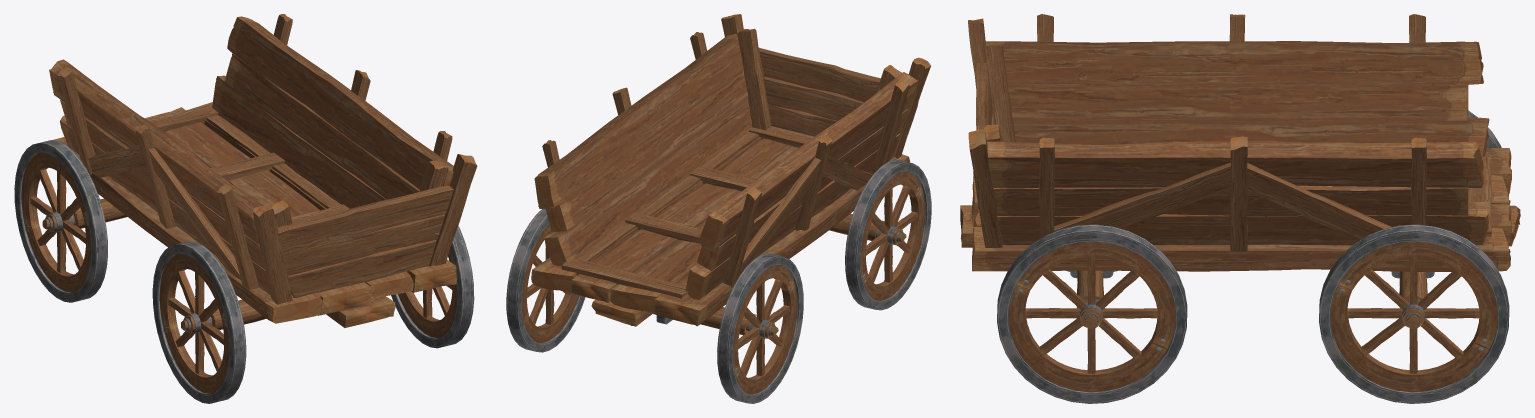
Rendered from SM_Farm_Carriage_01.fbx.
3 views of the same model, side by side, from view 1: azimuth 30°, elevation 25°; view 2: azimuth 150°, elevation 25°; view 3: azimuth 270°, elevation 25° (orthographic). The views are drawn at different scales.
Visible parts, largest first — view 1: SM_Farm_Carriage_01_LOD0; view 2: SM_Farm_Carriage_01_LOD0; view 3: SM_Farm_Carriage_01_LOD0.
Part boxes in pixels (x1=…): SM_Farm_Carriage_01_LOD0: x1=14, y1=14, x2=477, y2=403; SM_Farm_Carriage_01_LOD0: x1=506, y1=14, x2=931, y2=403; SM_Farm_Carriage_01_LOD0: x1=960, y1=14, x2=1520, y2=403.
Size of what is drawn, in the model's own units: 238 by 196 by 380.
